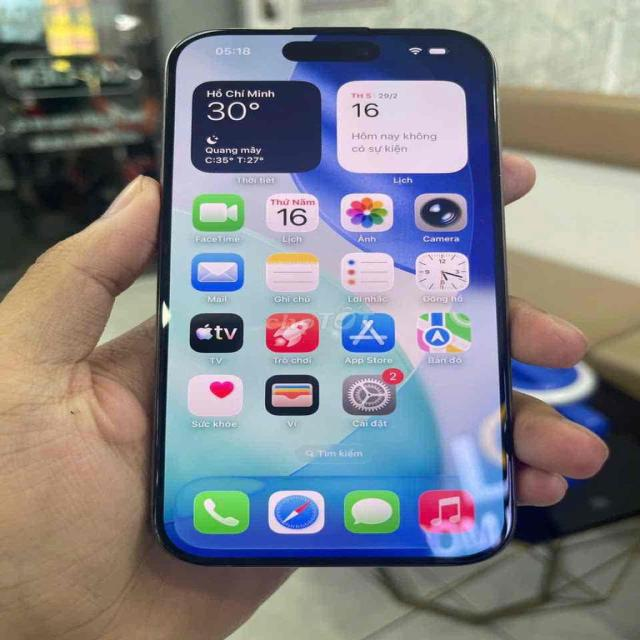gen_15: (138, 14, 528, 571)
